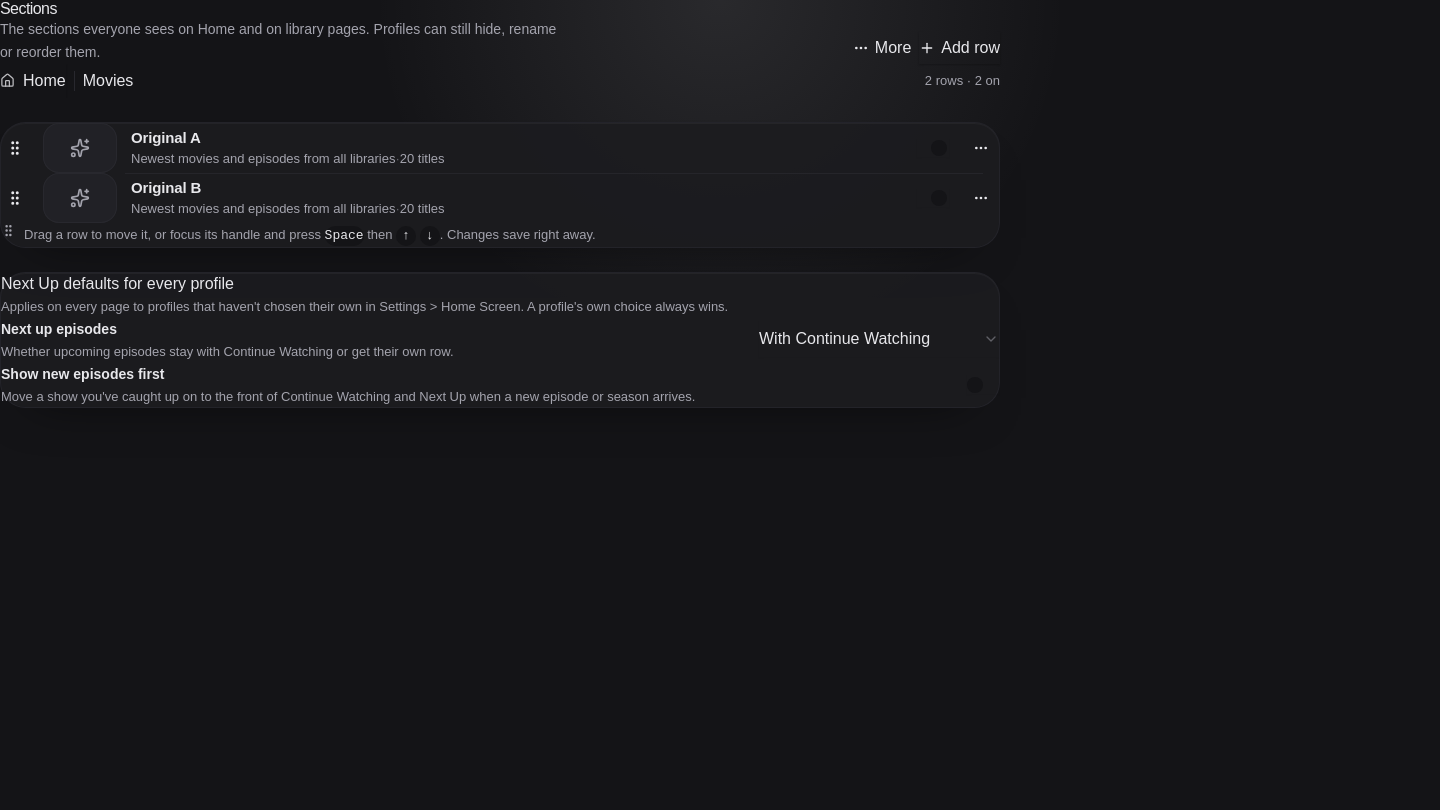
Test: admin section captured snapshots › freezes single-delete confirmation and requires explicit reload after 412
expect the button "Add row" is enabled: met, box [919, 32, 1000, 64]
Click the button named "More for Original A".
click(981, 148)  # box [963, 130, 999, 166]
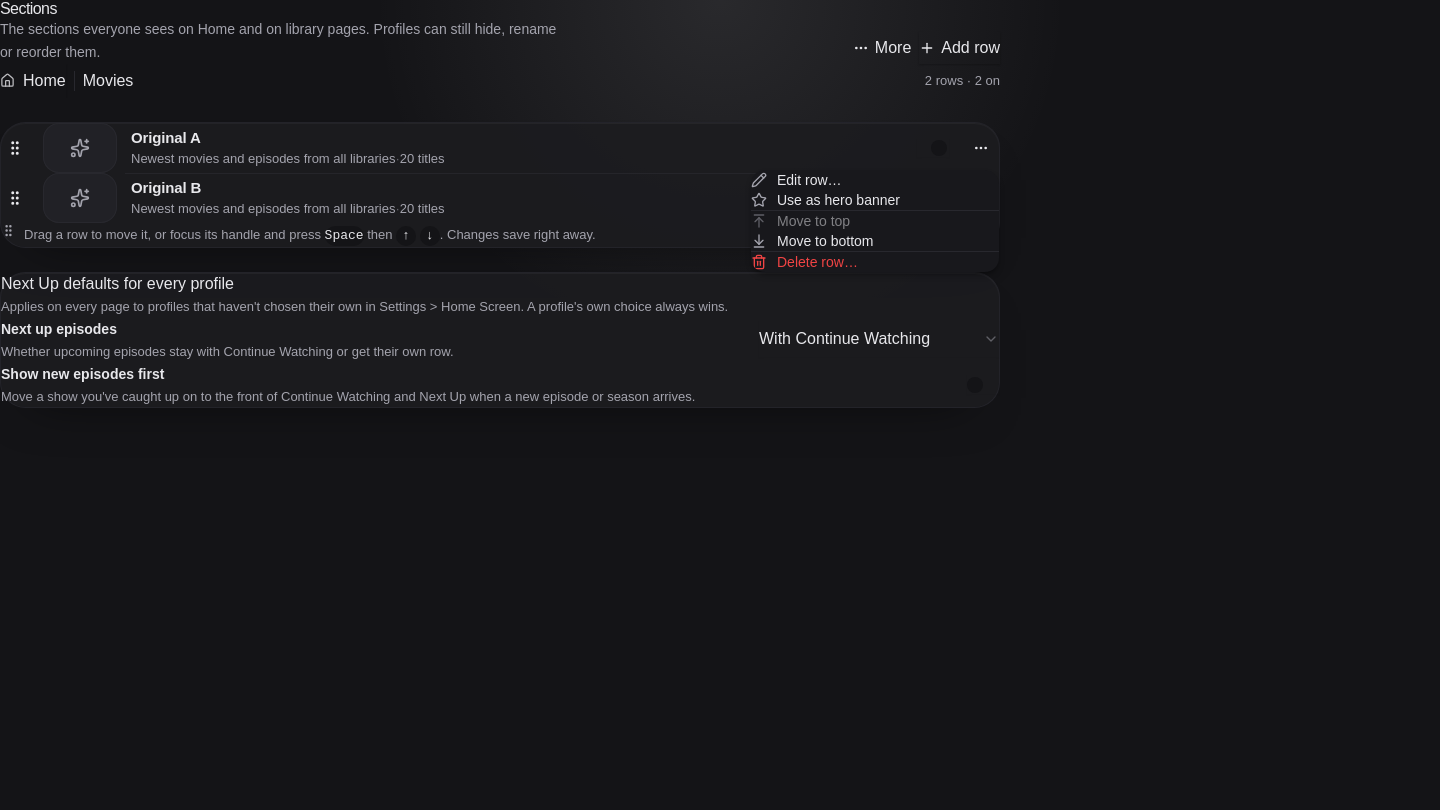
Click the menu item "Delete row…".
click(804, 262)  # box [751, 254, 858, 270]
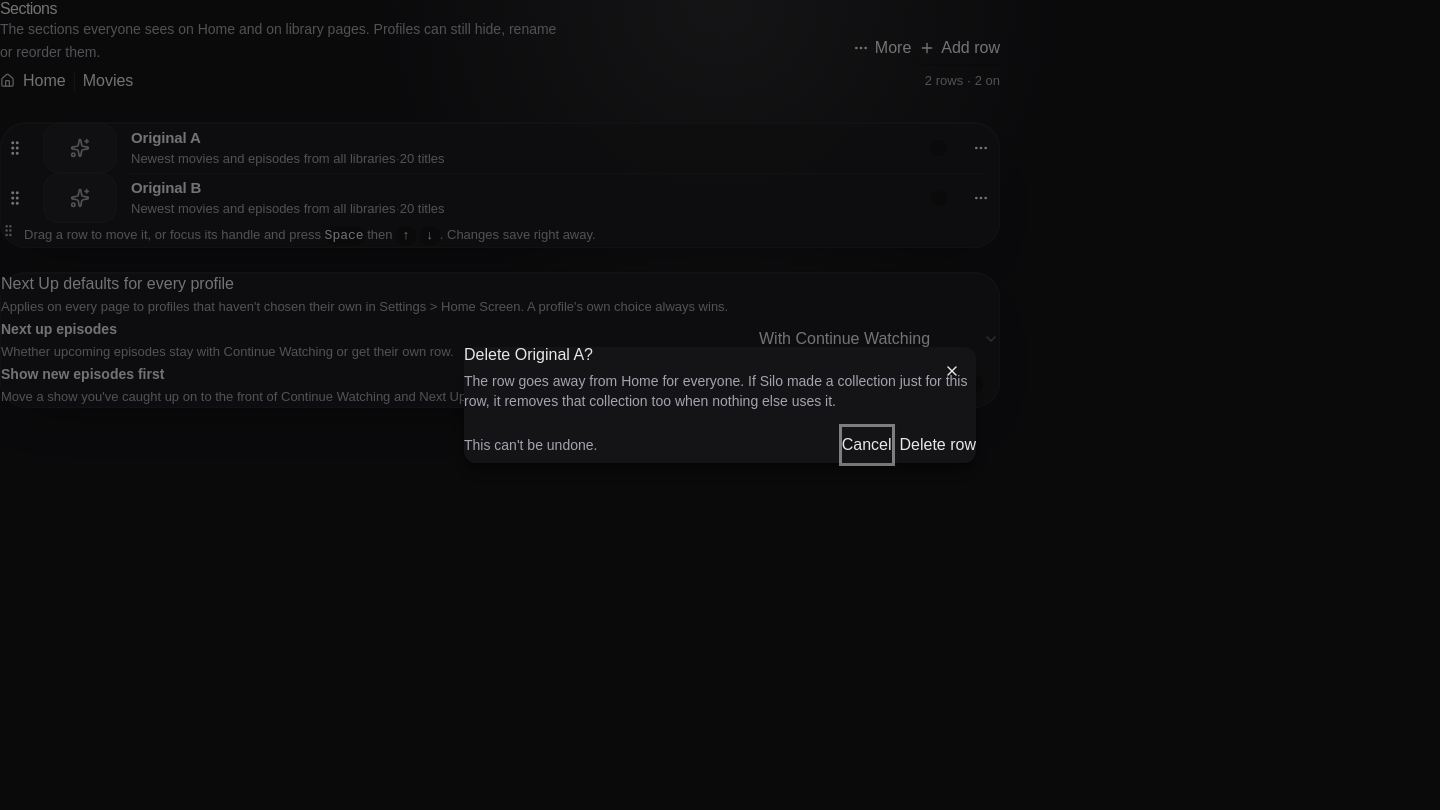
Click the button "Delete row".
click(938, 445)  # box [900, 427, 976, 463]
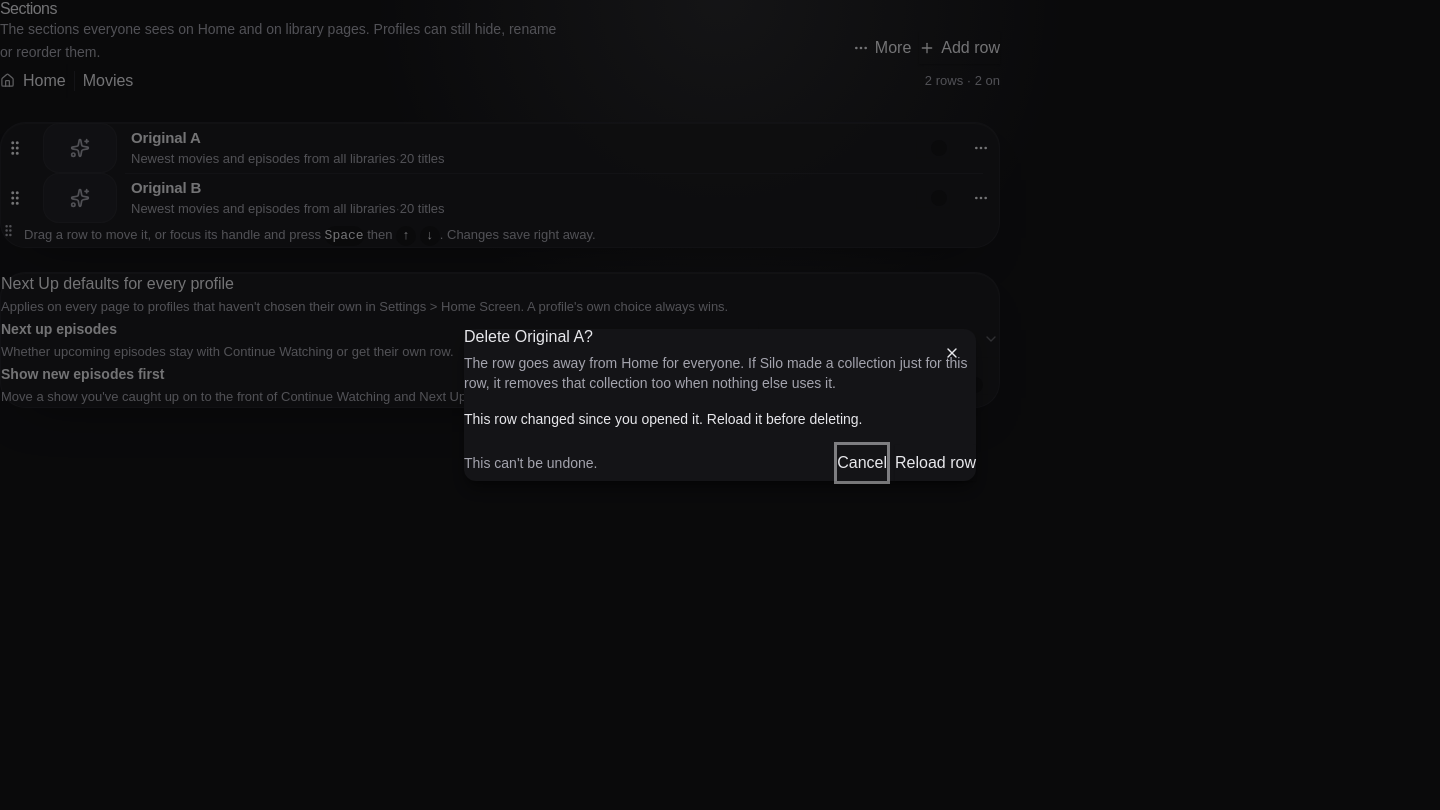
expect the dialog "Delete Original A?" is shown: met, box [464, 329, 976, 481]
expect the text "This row changed since you opened it. Reload it before deleting." is shown: met, box [464, 411, 862, 427]
